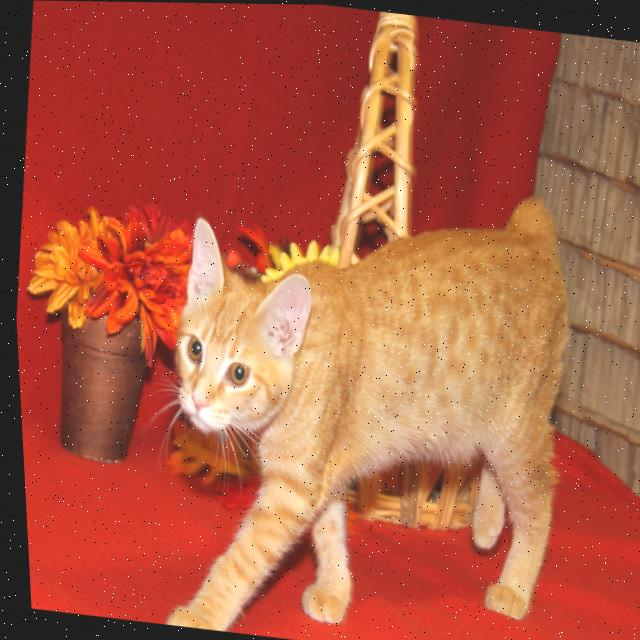American Bobtail: (128, 147, 593, 640)
